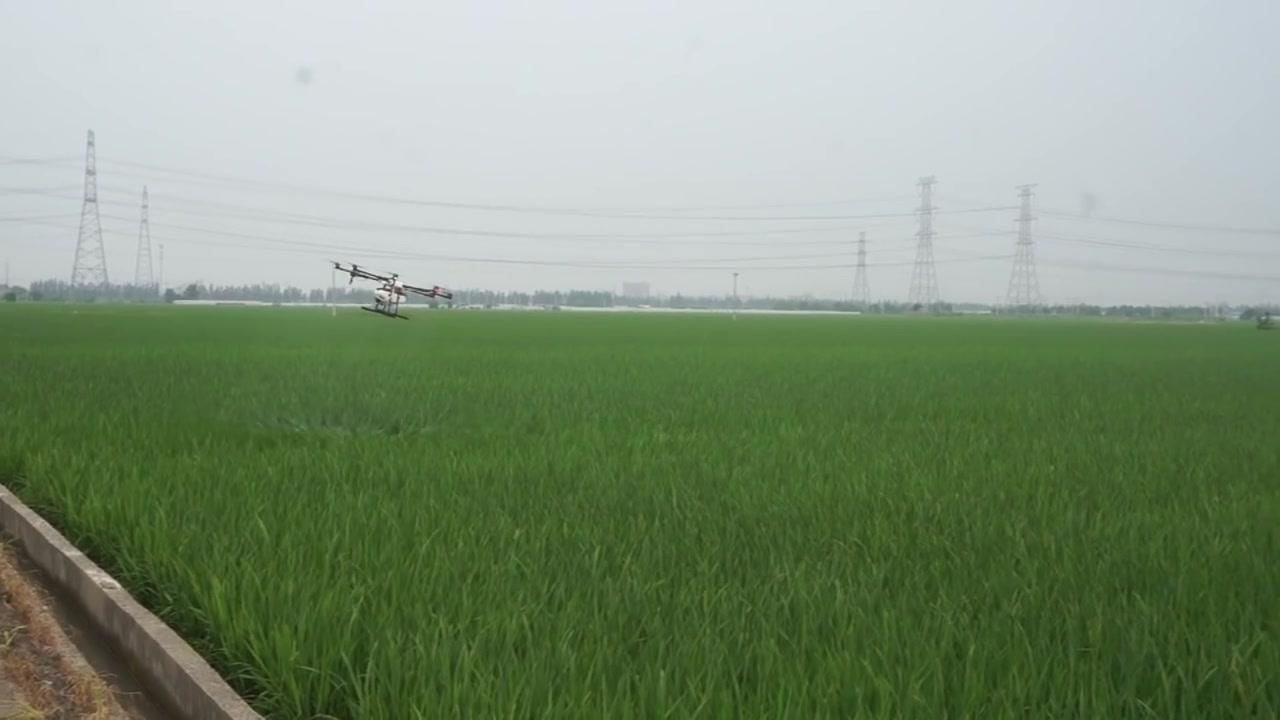UAV: (328, 256, 452, 325)
